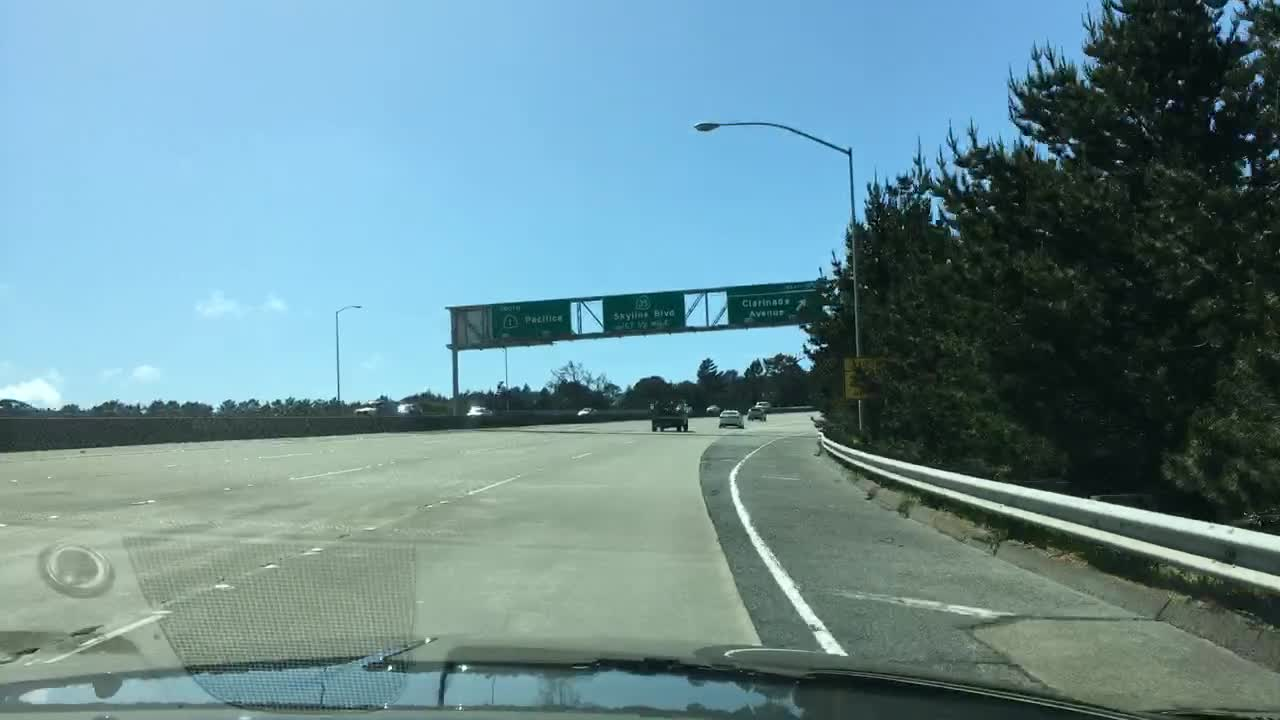car: (650, 397, 689, 434), (718, 410, 745, 429), (397, 401, 424, 416), (704, 400, 721, 416), (746, 405, 764, 420), (466, 405, 488, 416), (579, 406, 594, 416), (756, 400, 768, 410)
traffic sign: (728, 280, 825, 327), (600, 291, 686, 332), (492, 301, 571, 341), (843, 356, 891, 399)
truck: (354, 402, 398, 417)
